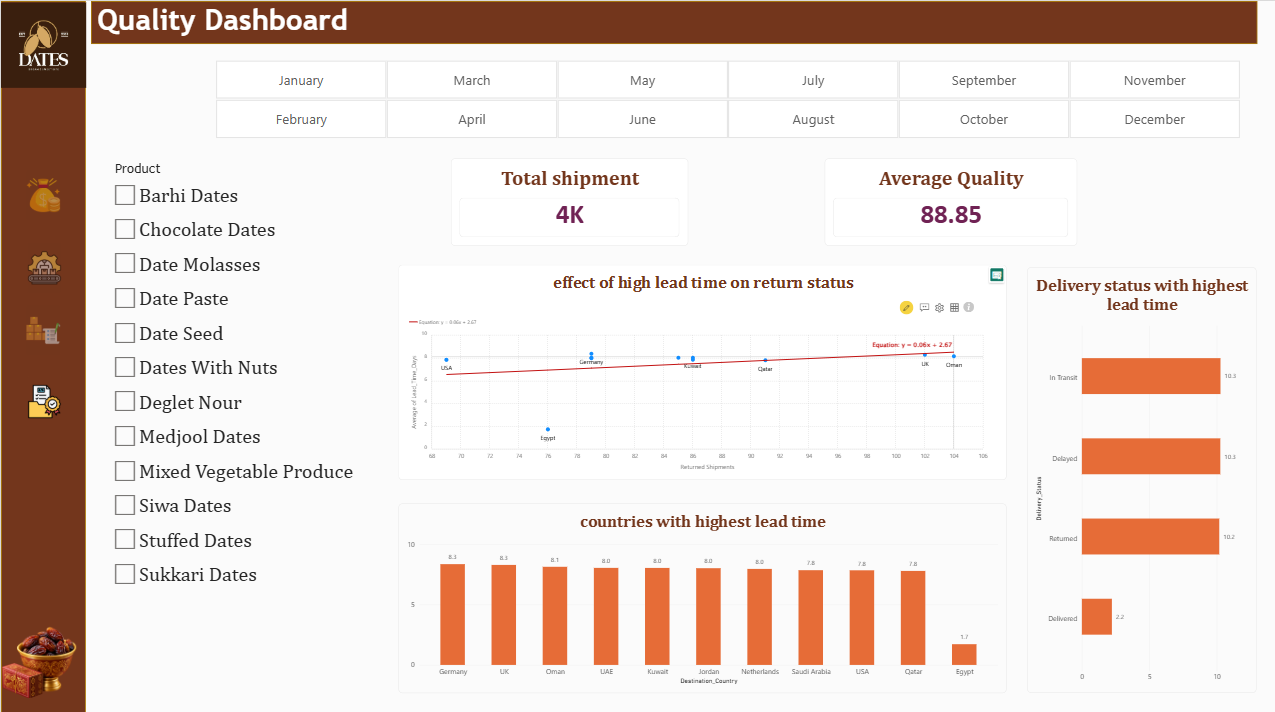

This screenshot's page, from the dashboard's own definition file:
{"tool":"powerbi","page":{"name":"Quality","canvas":[1920,1080],"ordinal":4},"visuals":[{"type":"shape","box":[0,0,170,1081],"z":0},{"type":"shape","box":[179,0,1741,85],"z":1000},{"type":"image","box":[0,1.7,170,171.7],"z":2000},{"type":"textbox","title":"Quality Dashboard","box":[192.7,1.7,741.7,116.7],"z":3000},{"type":"image","box":[11.5,842.4,150,235.7],"z":4000},{"type":"cardVisual","title":"Total shipment","fields":{"Data":["MyMeasures.Total Shipments"]},"box":[208,118,244,176],"z":7000},{"type":"barChart","title":"Delivery status with highest lead time","fields":{"Category":["shipDim.Delivery_Status"],"Y":["Avg(FactTransaction.Lead_Time_Days)"]},"box":[208,656,866,392],"z":9000},{"type":"columnChart","title":"countries with highest lead time","fields":{"Category":["shipDim.Destination_Country"],"Y":["Avg(FactTransaction.Lead_Time_Days)"]},"box":[212,338,1060,262],"z":10000},{"type":"actionButton","box":[50.6,193.6,69,102],"z":11000},{"type":"actionButton","box":[50.6,338.4,69,102],"z":12000},{"type":"actionButton","box":[52.3,481.4,69,102],"z":13000},{"type":"actionButton","box":[52.3,750,69,102],"z":14000},{"type":"actionButton","box":[50.6,607,69,102],"z":15000},{"type":"cardVisual","title":"Average Quality","fields":{"Data":["MyMeasures.AVGTotalQuality"]},"box":[500,118,282,176],"z":16000},{"type":"slicer","fields":{"Values":["productDim.Product"]},"box":[1580.2,108.1,302.5,417.5],"z":17000},{"type":"slicer","title":"Year","fields":{"Values":["DateDim.Date.Variation.Date Hierarchy.Year"]},"box":[828,118,412,176],"z":19000},{"type":"slicer","title":"Month","fields":{"Values":["DateDim.Date.Variation.Date Hierarchy.Month"]},"box":[1354,108,152,420],"z":20000},{"type":"performanceBubbleChartFBAAA829CB604E5CAB4F21729F233294","title":"effect of high lead time on return status","fields":{"category":["shipDim.Destination_Country"],"xmeasure":["MyMeasures.Returned Shipments"],"ymeasure":["Avg(FactTransaction.Lead_Time_Days)"]},"box":[1130,648,752,400],"z":21000}]}

Visuals, with their boxes in screenshot pixels (x1, y1, x2, y2), scaled from the page's 1920x1080 canvas onto the 1275x712 screenshot:
shape: locate(0, 0, 113, 711)
shape: locate(119, 0, 1274, 56)
image: locate(0, 1, 113, 114)
"Quality Dashboard" textbox: locate(128, 1, 621, 78)
image: locate(8, 555, 107, 711)
"Total shipment" cardVisual: locate(138, 78, 300, 194)
"Delivery status with highest lead time" barChart: locate(138, 432, 713, 691)
"countries with highest lead time" columnChart: locate(141, 223, 845, 396)
actionButton: locate(34, 128, 79, 195)
actionButton: locate(34, 223, 79, 290)
actionButton: locate(35, 317, 81, 385)
actionButton: locate(35, 494, 81, 562)
actionButton: locate(34, 400, 79, 467)
"Average Quality" cardVisual: locate(332, 78, 519, 194)
slicer - productDim.Product: locate(1049, 71, 1250, 347)
"Year" slicer: locate(550, 78, 823, 194)
"Month" slicer: locate(899, 71, 1000, 348)
"effect of high lead time on return status" performanceBubbleChartFBAAA829CB604E5CAB4F21729F233294: locate(750, 427, 1250, 691)
